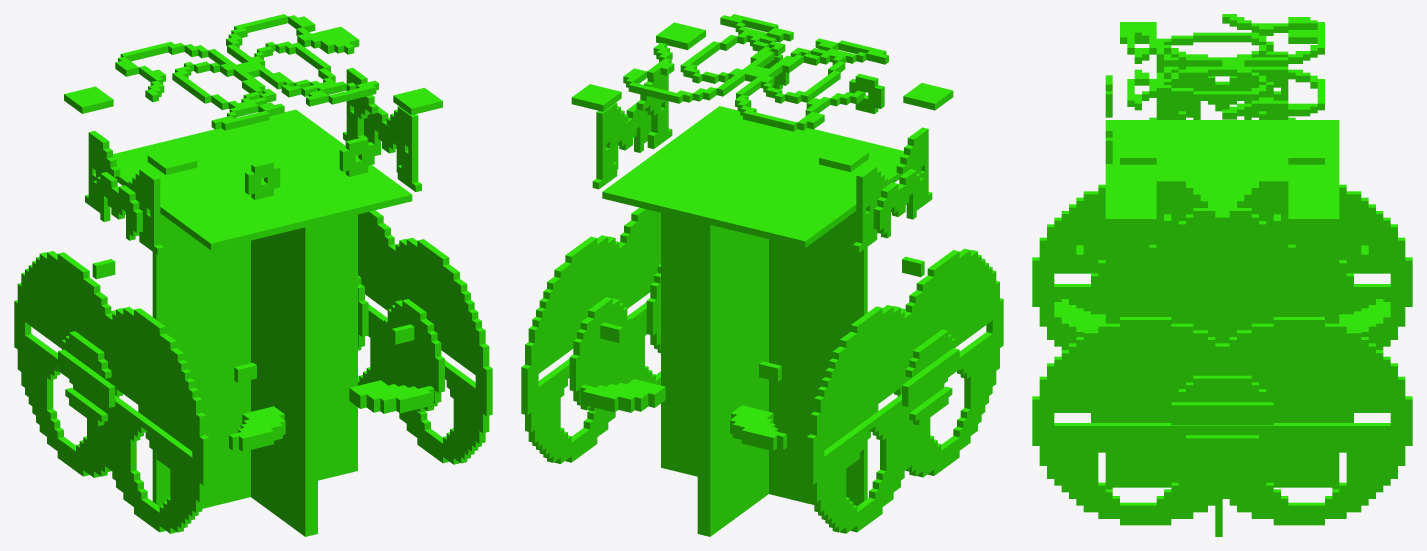
Rendered from 发绿光.obj.
3 renders of one model, left to right at view 1: azimuth 30°, elevation 25°; view 2: azimuth 150°, elevation 25°; view 3: azimuth 270°, elevation 25°, orthographic.
Parts seen in each view (by area): view 1: 发绿光; view 2: 发绿光; view 3: 发绿光.
Part boxes in pixels (x1=…): 发绿光: x1=14, y1=14, x2=492, y2=536; 发绿光: x1=521, y1=14, x2=1003, y2=536; 发绿光: x1=1032, y1=14, x2=1412, y2=536.
Bounding box in the file's own units: 54 × 64 × 52.
1 material, 1 textured.
